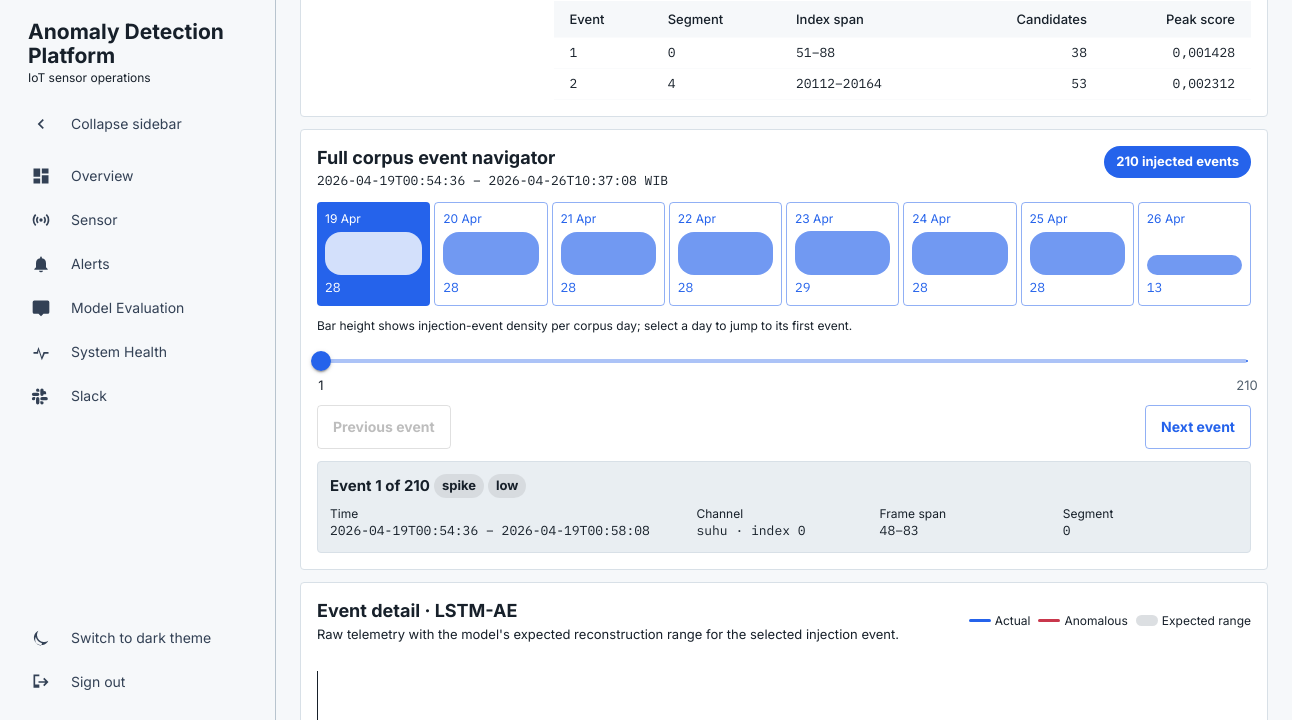
Scenario: SimulationPage › renders five artifact models, server metrics, and the full injection corpus navigator
The image size is (1292, 720).
(page scrolled)
Expected: the table named "Operational alert events" is shown, [554,1,1251,100]
Expected: the text "210 injected events" is shown, [1116,153,1239,169]
Set the slider named "Injection event" to "210". click: (321, 361)
box: [311,351,331,371]
(page scrolled)
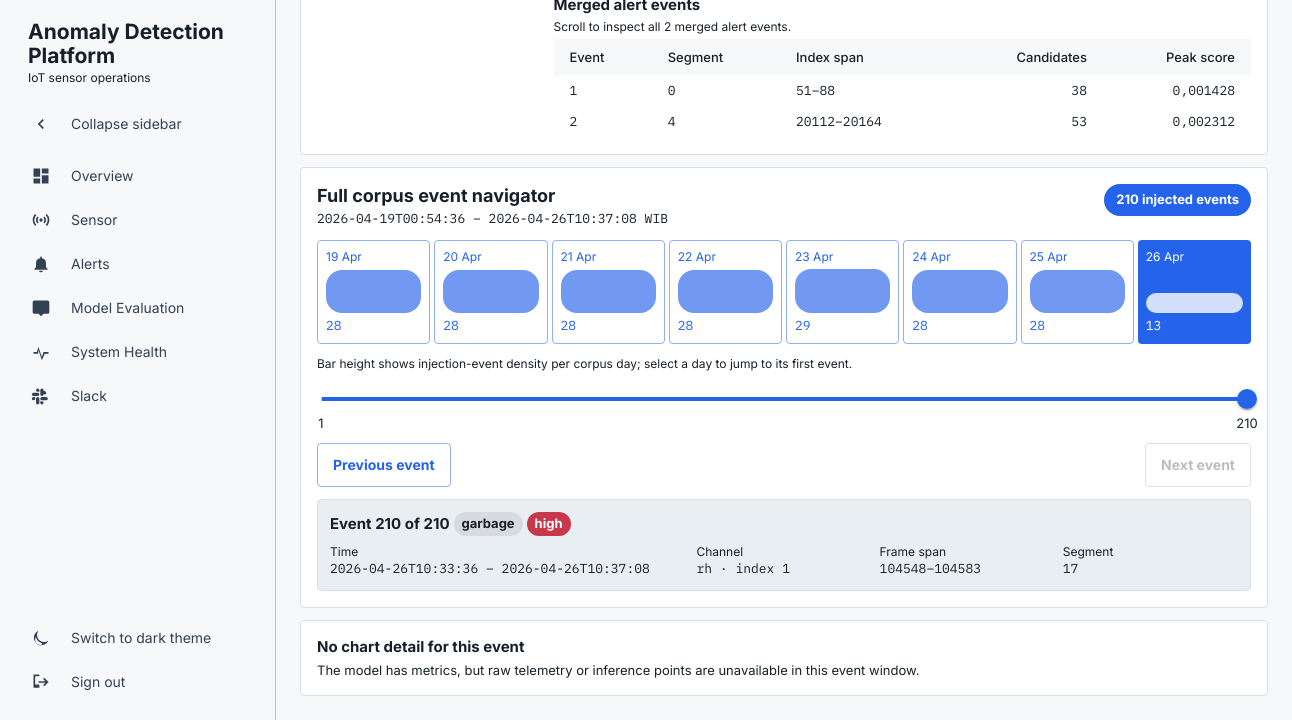
Expected: the heading "Event 210 of 210" is shown, [330,514,450,534]
